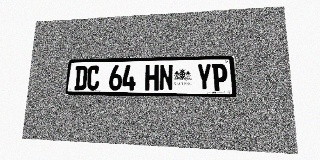4: (122, 65, 136, 90)
6: (109, 65, 123, 90)
C: (86, 66, 100, 90)
D: (74, 66, 88, 90)
H: (145, 65, 159, 91)
N: (159, 64, 173, 91)
P: (212, 63, 228, 91)
Y: (197, 64, 212, 91)
